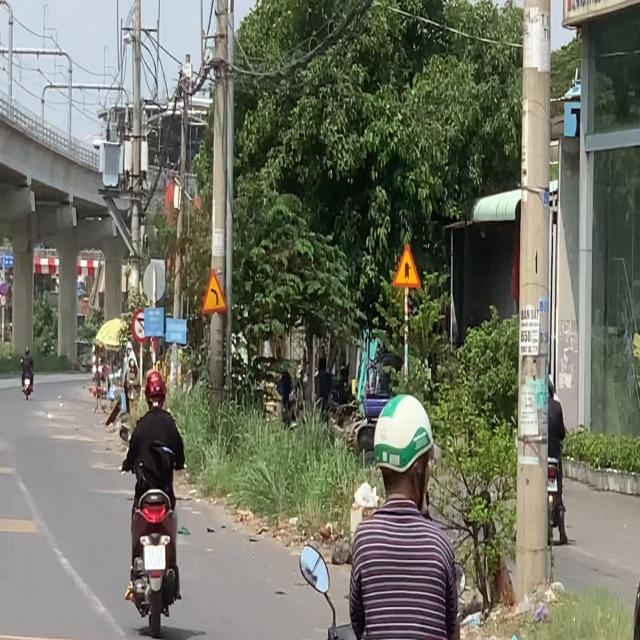Giao voi duong khong uu tien: (392, 241, 422, 289)
Nguy hiem: (200, 267, 229, 317)
